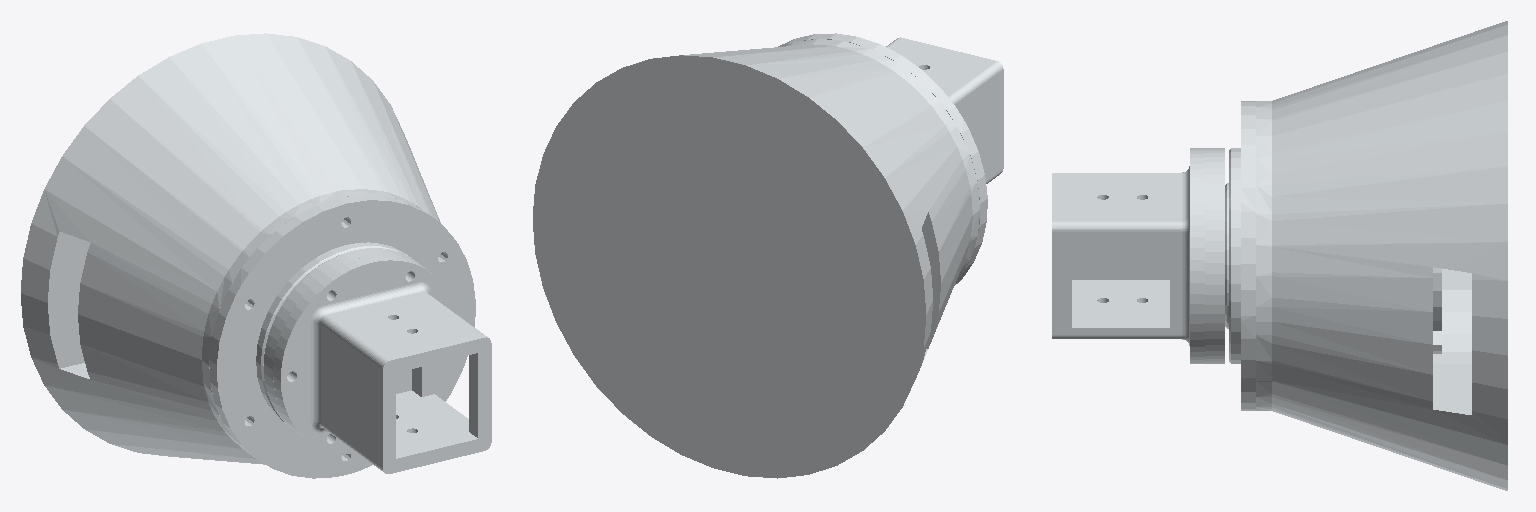
URDF robot description (Assem_4310_BASE):
<?xml version="1.0" encoding="utf-8"?>
<!-- This URDF was automatically created by SolidWorks to URDF Exporter! Originally created by [author] ([email redacted]) 
     Commit Version: 1.6.0-4-g7f85cfe  Build Version: 1.6.7995.38578
     For more information, please see http://wiki.ros.org/sw_urdf_exporter -->
<robot
  name="Assem_4310_BASE">
  <link
    name="base_motor_link">
    <inertial>
      <origin
        xyz="1.6355E-05 2.1044E-06 0.030945"
        rpy="0 0 0" />
      <mass
        value="1.1937" />
      <inertia
        ixx="0.0011798"
        ixy="-3.4788E-08"
        ixz="2.8837E-07"
        iyy="0.0010863"
        iyz="5.0519E-08"
        izz="0.0016066" />
    </inertial>
    <visual>
      <origin
        xyz="0 0 0"
        rpy="0 0 0" />
      <geometry>
        <mesh
          filename="../meshes/base_motor_link.STL" />
      </geometry>
      <material
        name="">
        <color
          rgba="0.89804 0.91765 0.92941 1" />
      </material>
    </visual>
    <collision>
      <origin
        xyz="0 0 0"
        rpy="0 0 0" />
      <geometry>
        <mesh
          filename="../meshes/base_motor_link.STL" />
      </geometry>
    </collision>
  </link>
  <link
    name="base_out_link">
    <inertial>
      <origin
        xyz="2.3272E-17 0.0011054 0.008691"
        rpy="0 0 0" />
      <mass
        value="0.088545" />
      <inertia
        ixx="2.4599E-05"
        ixy="-1.5532E-21"
        ixz="3.7828E-22"
        iyy="2.5766E-05"
        iyz="-7.8406E-07"
        izz="3.0632E-05" />
    </inertial>
    <visual>
      <origin
        xyz="0 0 0"
        rpy="0 0 0" />
      <geometry>
        <mesh
          filename="../meshes/base_out_link.STL" />
      </geometry>
      <material
        name="">
        <color
          rgba="0.89804 0.91765 0.92941 1" />
      </material>
    </visual>
    <collision>
      <origin
        xyz="0 0 0"
        rpy="0 0 0" />
      <geometry>
        <mesh
          filename="../meshes/base_out_link.STL" />
      </geometry>
    </collision>
  </link>
  <joint
    name="base_rev_joint"
    type="revolute">
    <origin
      xyz="0 -0.077 0"
      rpy="1.5708 -1.5708 0" />
    <parent
      link="base_motor_link" />
    <child
      link="base_out_link" />
    <axis
      xyz="1 0 0" />
    <limit
      lower="0"
      upper="0"
      effort="0"
      velocity="0" />
  </joint>
</robot>

--- What the picture shows (computed from the rendered views, not written in the file) ---
3 views of the same robot in one strip: view 1: azimuth 30°, elevation 25°; view 2: azimuth 150°, elevation 25°; view 3: azimuth 270°, elevation 25° (orthographic).
Model Assem_4310_BASE with 2 links and 1 joints (1 revolute), rooted at base_motor_link, posed every joint at zero.
Links seen in each view (by area): view 1: base_motor_link, base_out_link; view 2: base_motor_link, base_out_link; view 3: base_motor_link, base_out_link.
Boxes of the visible links, left/top/right/bottom form: base_motor_link: left=21, top=33, right=475, bottom=478; base_out_link: left=264, top=248, right=491, bottom=473; base_motor_link: left=533, top=33, right=987, bottom=478; base_out_link: left=886, top=37, right=1003, bottom=183; base_motor_link: left=1225, top=21, right=1507, bottom=490; base_out_link: left=1052, top=148, right=1224, bottom=363.
Size in the robot's own frame: 0.12 by 0.116 by 0.1196 metres.
2 mesh visuals loaded from 2 distinct referenced files (2 binary STL).
